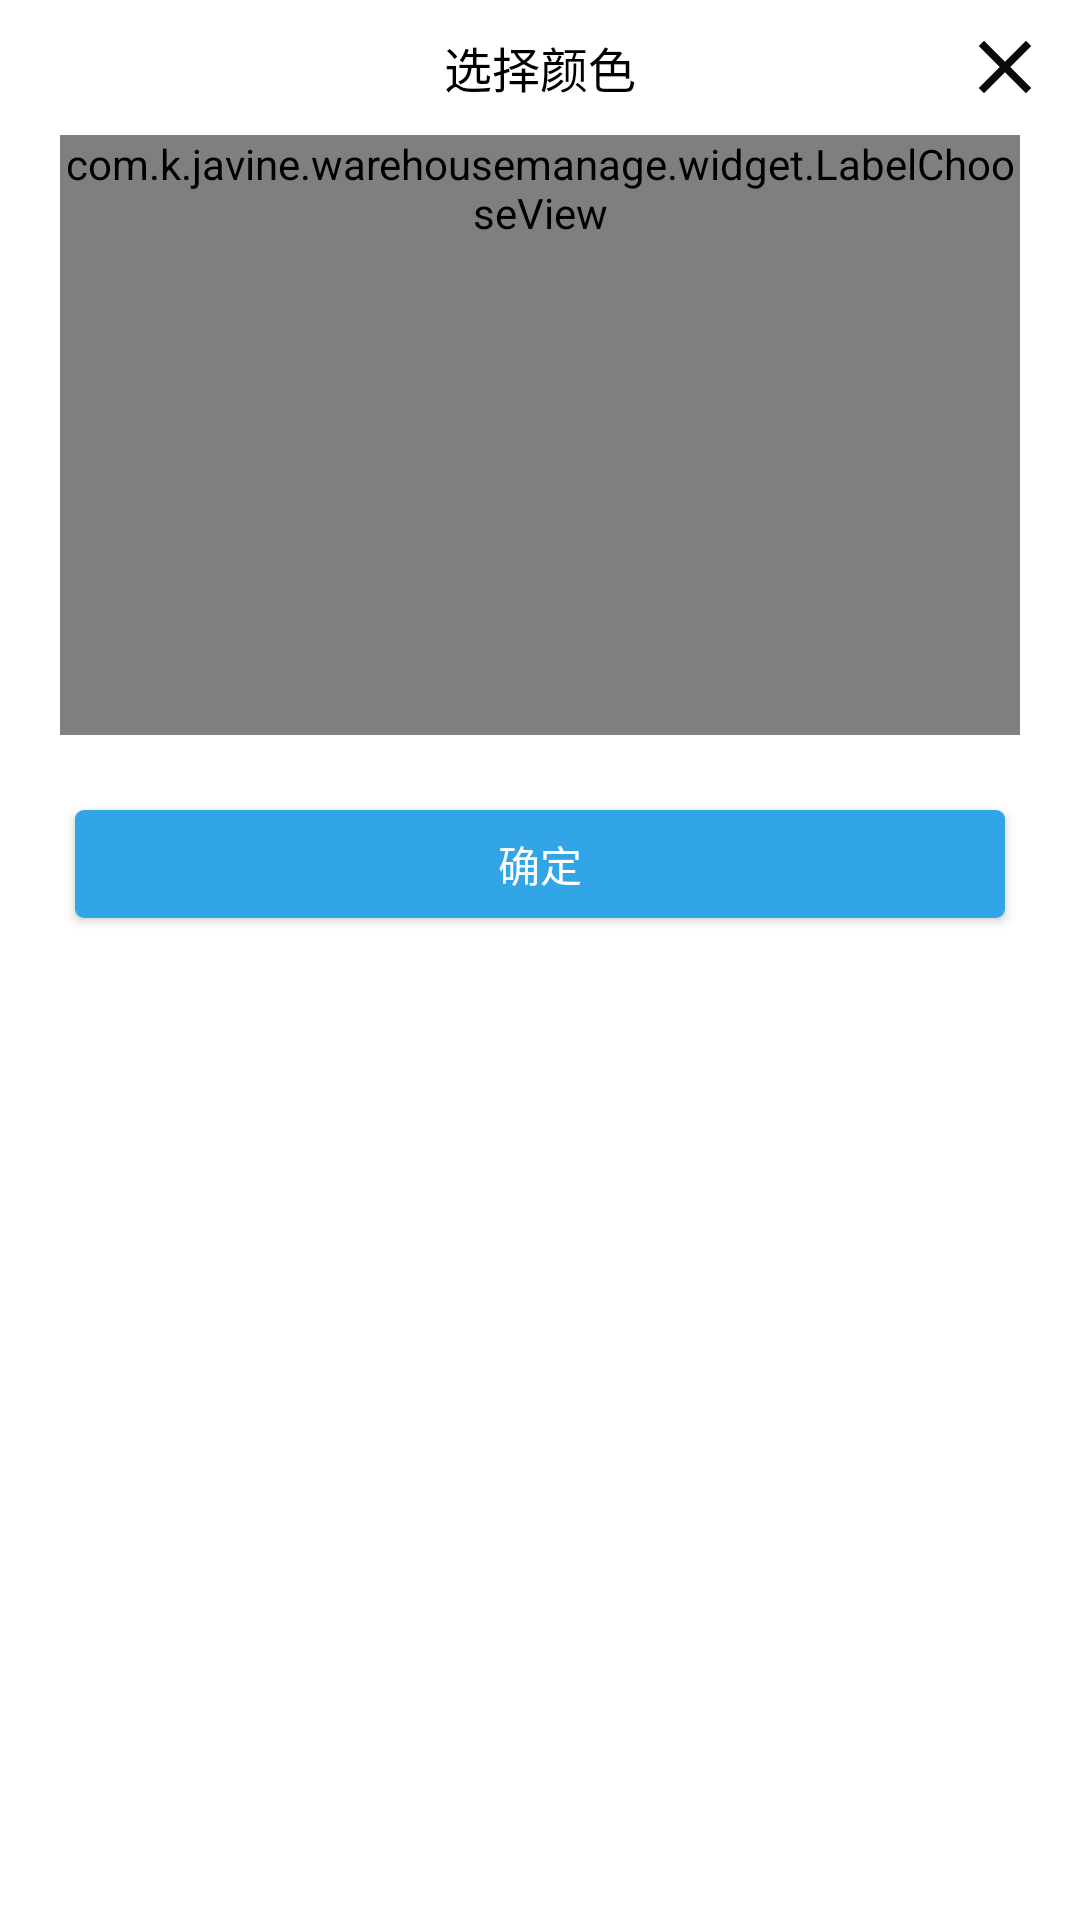

Named icons in this screenshot (1080 x 1920) and their bounding boxes, (x1,y1,x2,y2):
close: (979,41,1031,93)
